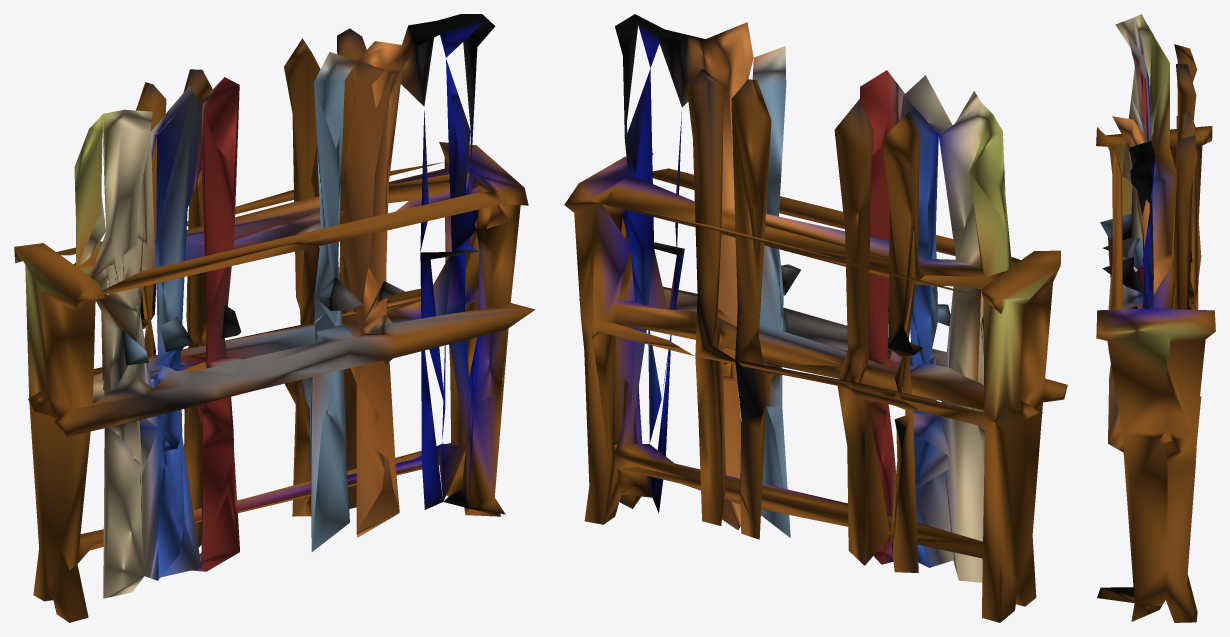
Rendered from gen3d-ski-rack-lod1.glb.
3 renders of one model, left to right at view 1: azimuth 30°, elevation 25°; view 2: azimuth 150°, elevation 25°; view 3: azimuth 270°, elevation 25°, orthographic. The views are drawn at different scales.
Parts seen in each view (by area): view 1: part_0; view 2: part_0; view 3: part_0.
Boxes of the visible parts, bbox=[...] form: part_0: bbox=[14, 14, 535, 622]; part_0: bbox=[564, 14, 1067, 622]; part_0: bbox=[1096, 14, 1215, 622].
Bounding box in the file's own units: 0.9666 × 0.9968 × 0.2382.
